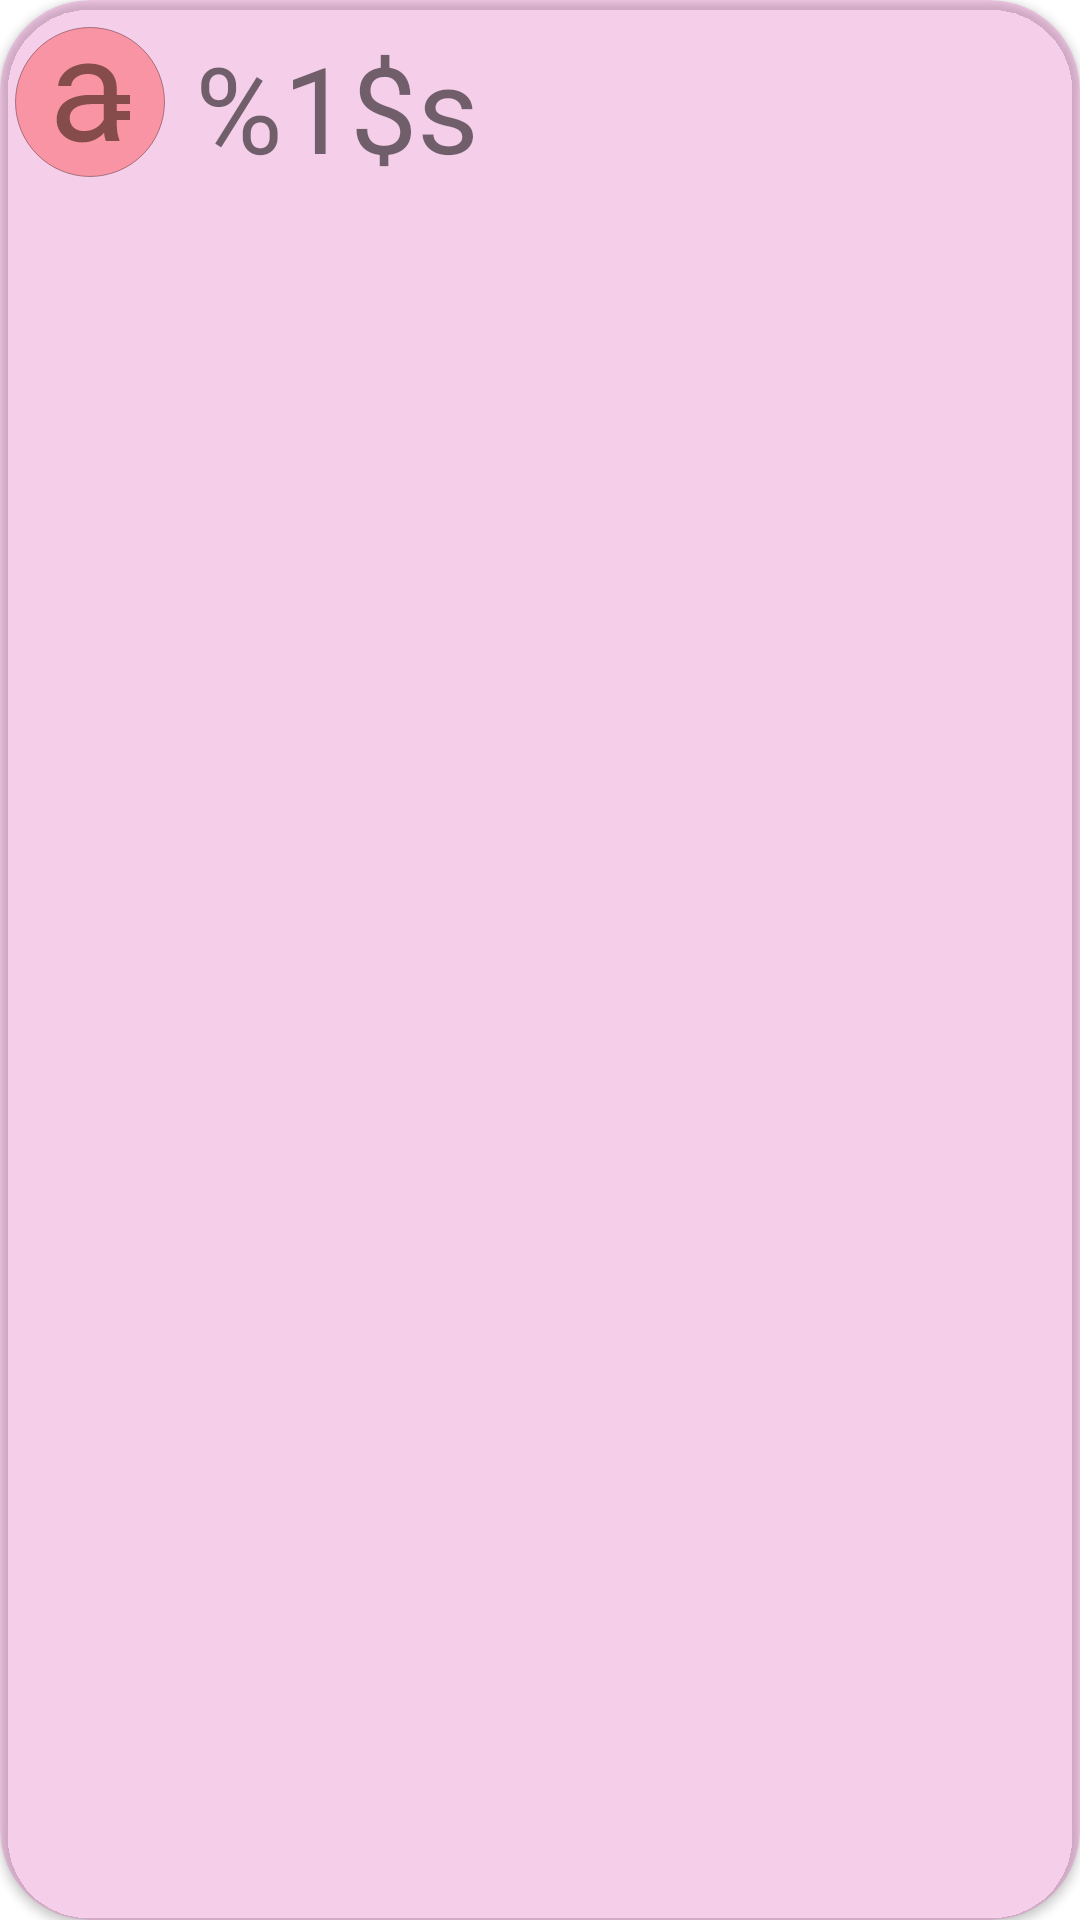

Named icons in this screenshot (1080px x 1920px) and their bounding boxes, (x1,y1,x2,y2):
currency: (15,27,165,177)
